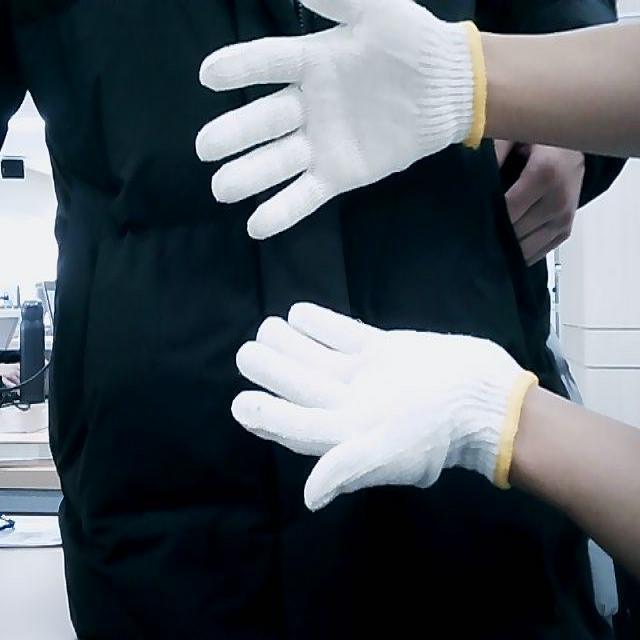gloves: (192, 0, 488, 245), (229, 299, 536, 516)
